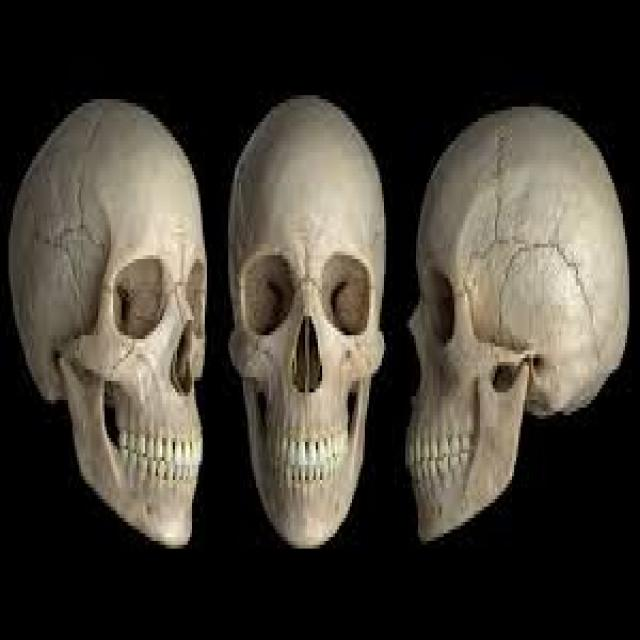skull: (0, 44, 217, 582)
